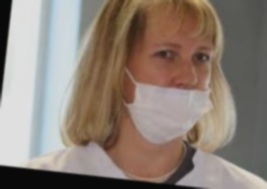mask_weared_incorrect: (115, 1, 212, 143)
